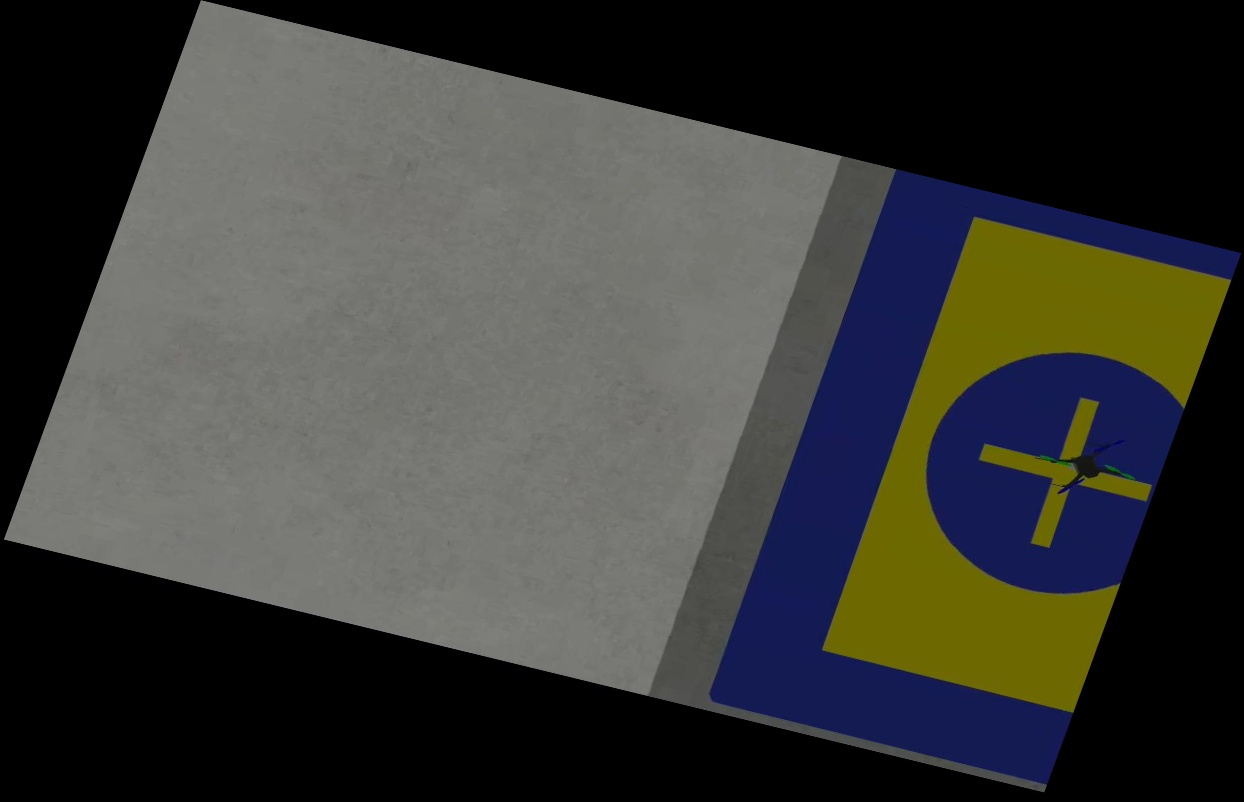large_base: (699, 168, 1243, 782)
